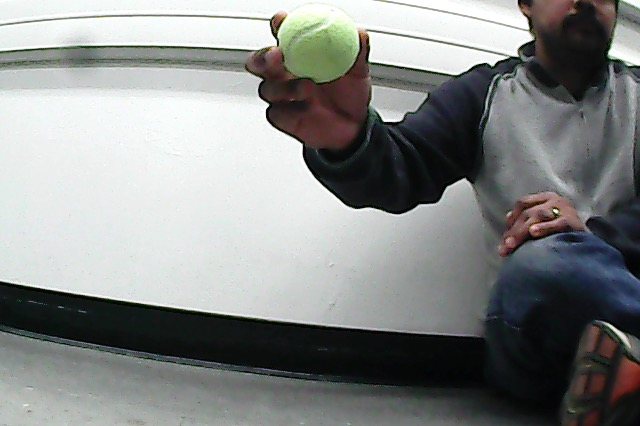ball: (273, 2, 363, 87)
